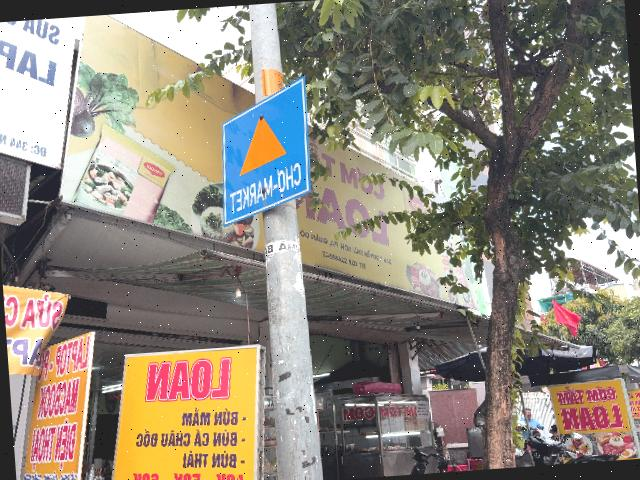khu-vuc-cho-phia-truoc: (214, 75, 316, 226)
